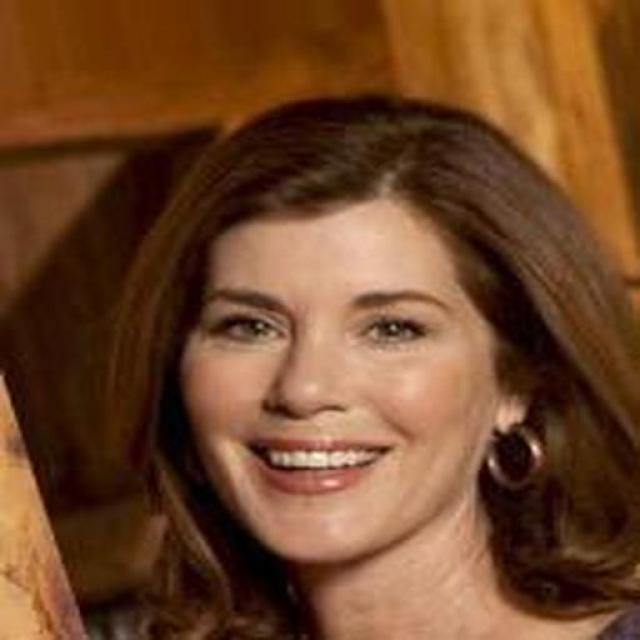bareface: (188, 127, 541, 554)
